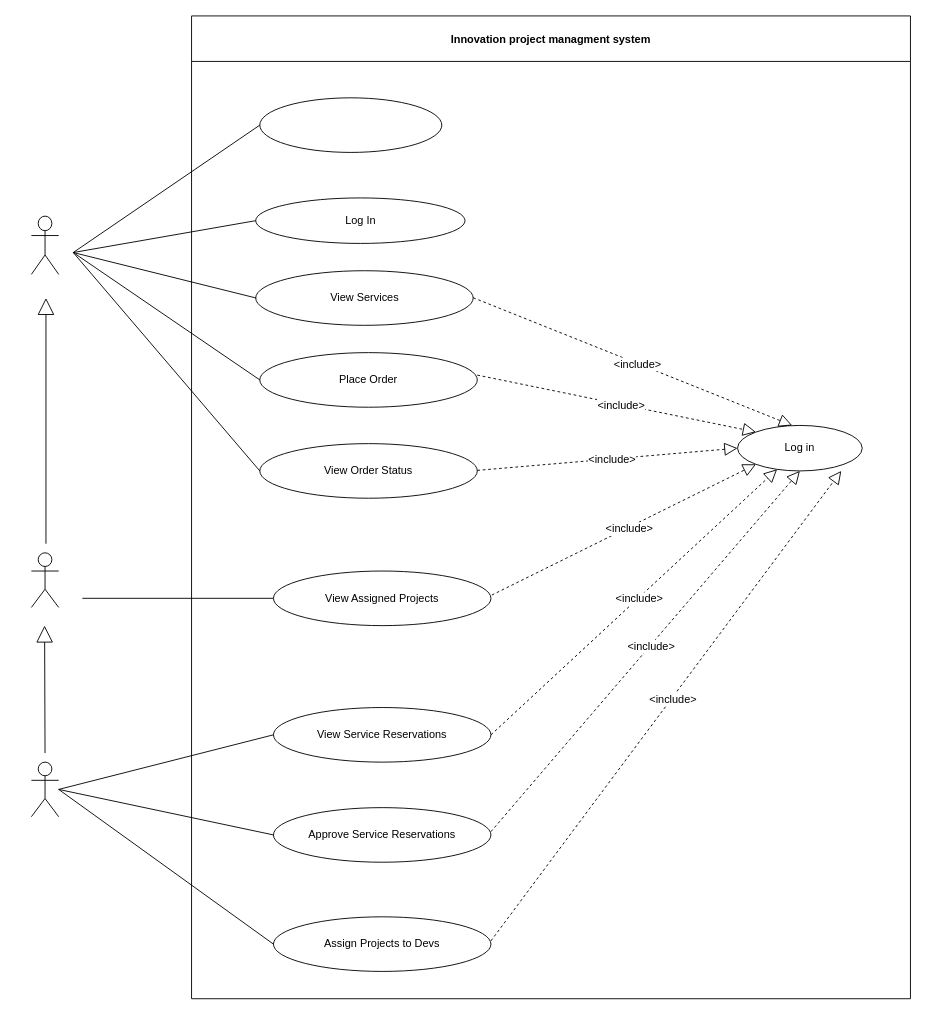
Image size: 926x1015. Some labels were removed from this diagram. Here are the shapes that lost their labels. From the top down, the centre of each, then its label:
pixel 350 124: Register an account
pixel 44 244: Visitor/client
pixel 44 579: Developer
pixel 44 789: Admin
